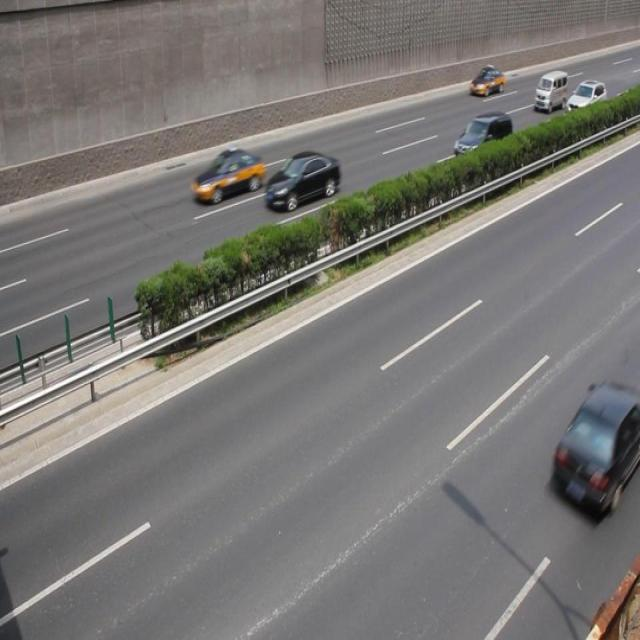car: (548, 382, 640, 520), (264, 150, 339, 211), (191, 149, 265, 204), (452, 110, 510, 171), (564, 76, 604, 122), (467, 65, 504, 99)
truck: (532, 71, 566, 113)
